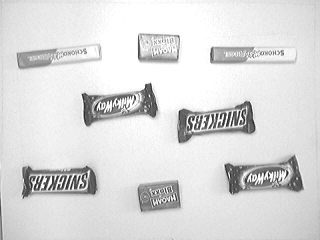Maoam: (133, 177, 189, 214), (135, 30, 183, 67)
Milkyway: (77, 81, 163, 129), (222, 153, 308, 198)
Riegel: (14, 42, 105, 72), (208, 44, 299, 65)
Snickers: (174, 99, 262, 146), (20, 163, 99, 201)
